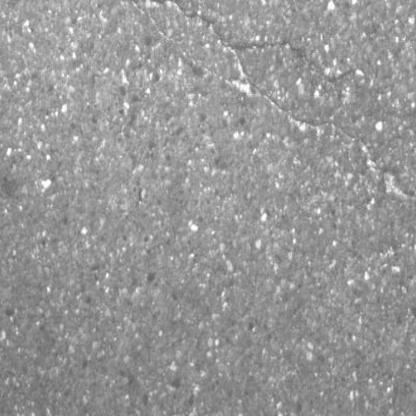Cracks: (103, 0, 416, 217)
